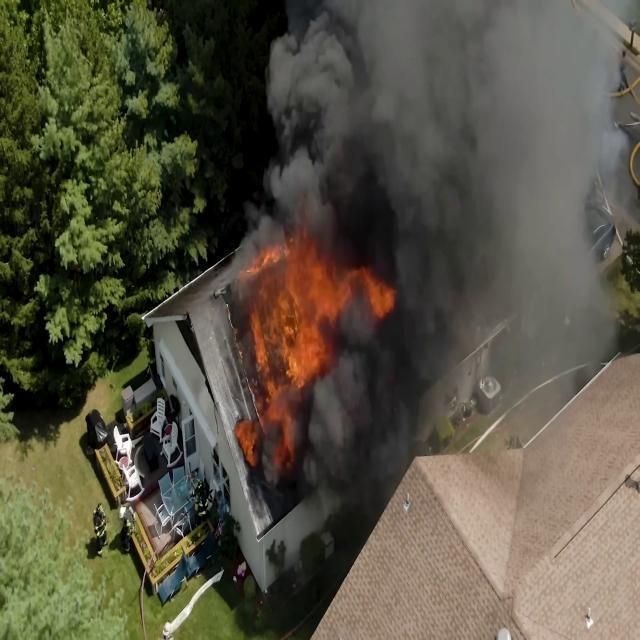Fire: (256, 243, 333, 382)
Smoke: (419, 0, 589, 318), (295, 17, 470, 217), (325, 338, 417, 490)
